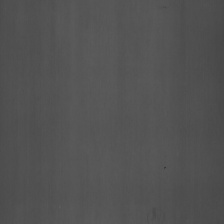inclusion: (159, 162, 169, 174)
